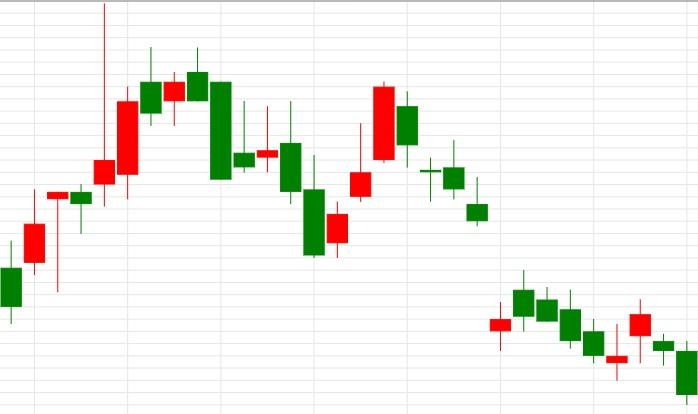morning_star_rise: (513, 270, 651, 381)
shooting_star_fall: (71, 2, 162, 234)
three_white_soldiers_rise: (256, 82, 395, 259)
